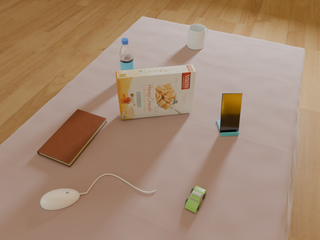book: (37, 109, 107, 167)
bottle: (120, 38, 134, 71)
box: (116, 65, 196, 120)
cup: (187, 24, 208, 50)
mouse: (40, 189, 80, 210)
phone: (220, 93, 242, 132)
toy_car: (185, 186, 206, 213)
